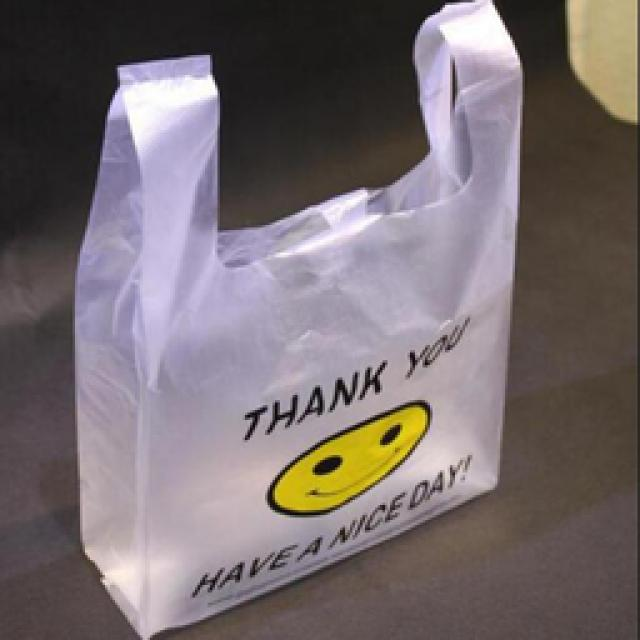plastic: (75, 0, 520, 638)
